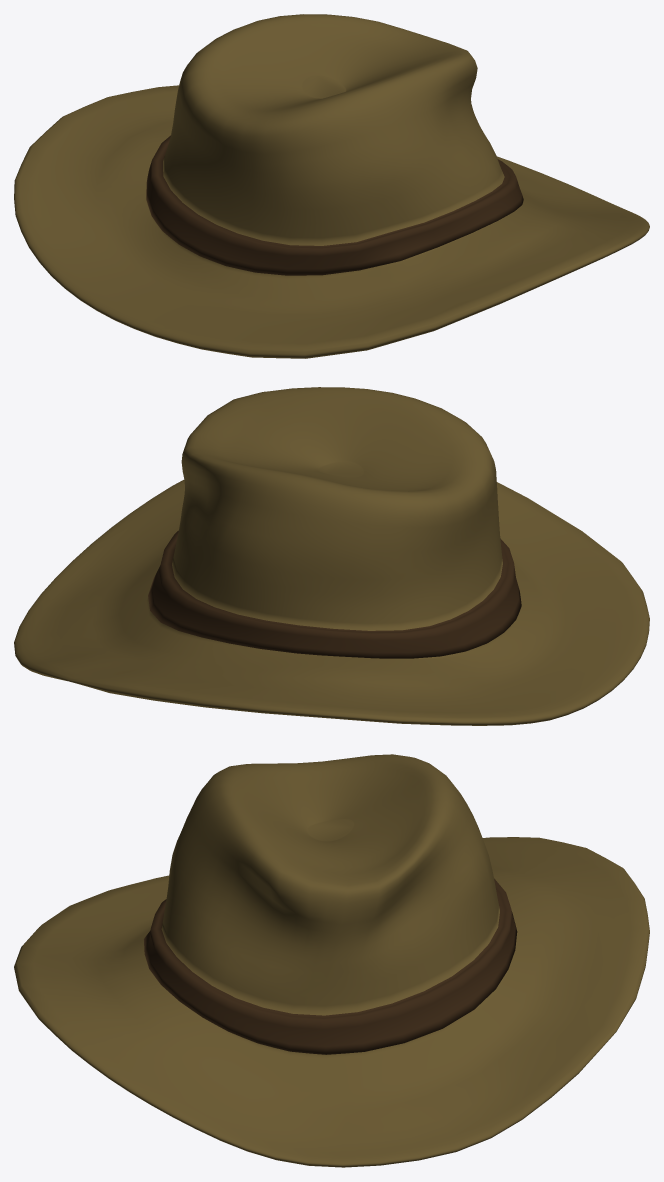
Rendered from AkubraBrown.fbx.
The picture shows the model from 3 angles, top to bottom: view 1: azimuth 30°, elevation 25°; view 2: azimuth 150°, elevation 25°; view 3: azimuth 270°, elevation 25°; orthographic projection. The views are drawn at different scales.
Visible parts, largest first — view 1: Cylinder; view 2: Cylinder; view 3: Cylinder.
Boxes of the visible parts, left/top/right/bottom form: Cylinder: left=14, top=14, right=649, bottom=358; Cylinder: left=14, top=387, right=649, bottom=725; Cylinder: left=14, top=754, right=649, bottom=1167.
Size of the model in its own units: 448 by 179 by 435.
